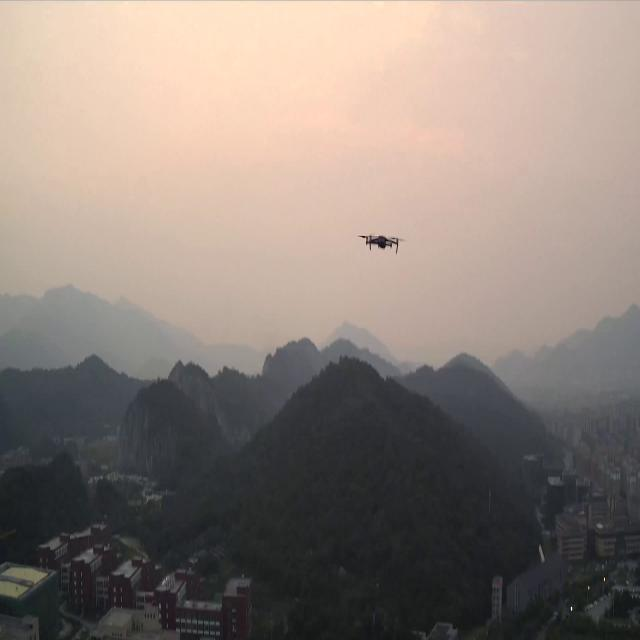UAV: (358, 231, 404, 253)
